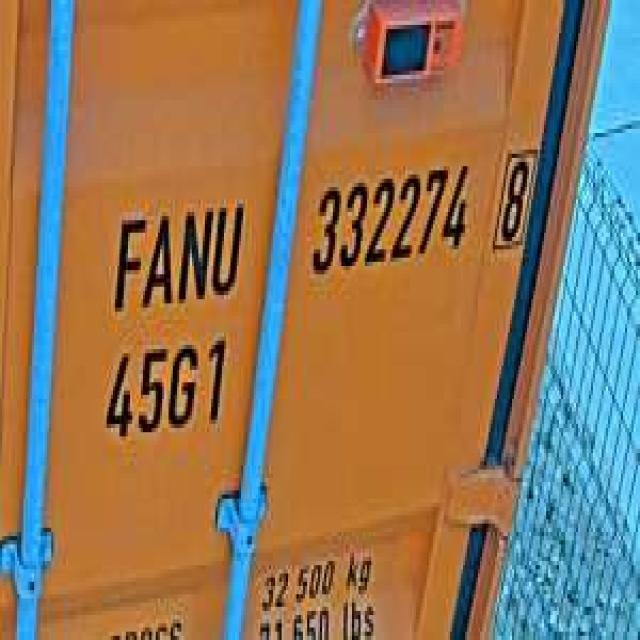dv: (490, 133, 538, 258)
owner: (102, 183, 248, 312)
serial: (305, 150, 474, 282)
size: (98, 328, 233, 441)
